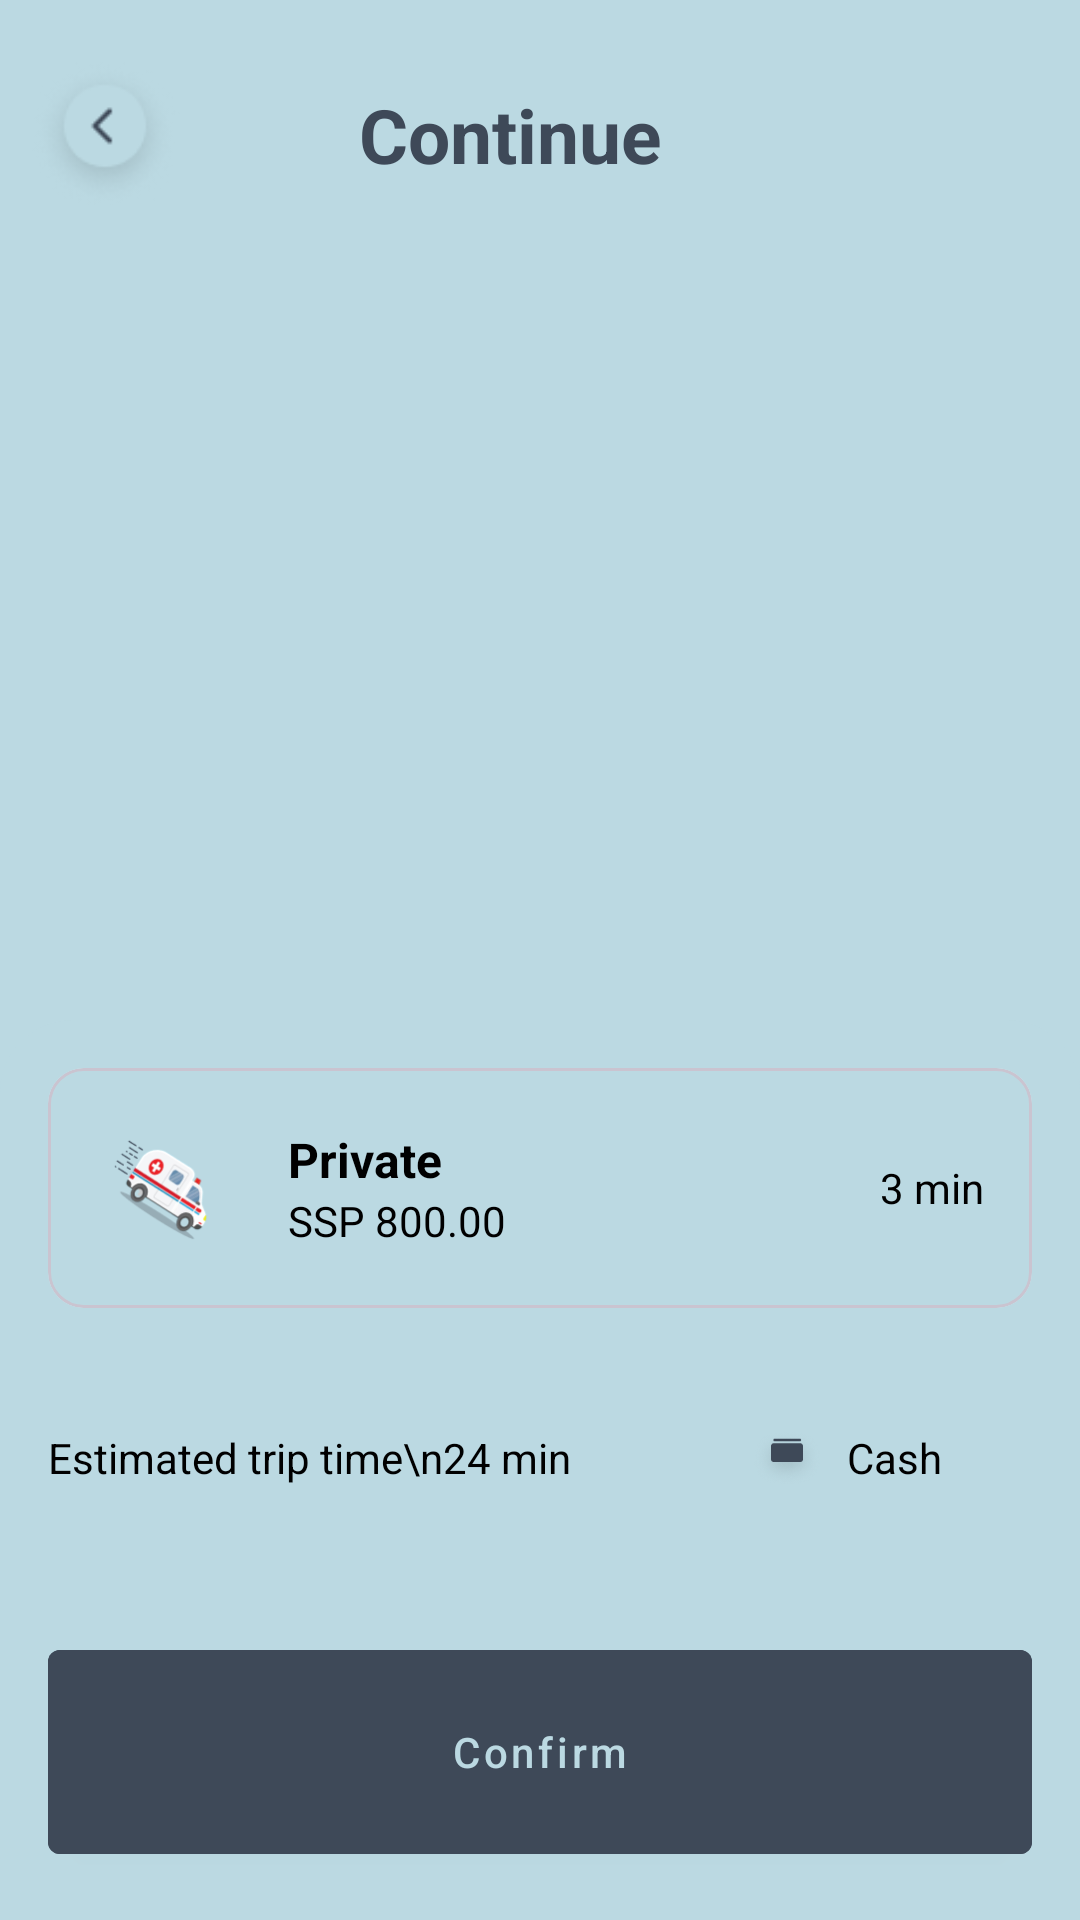

Icon bounding boxes for this 1080 x 1920 phone screenshot, format box=[x1, y1, x2, y2]:
Ambulance: box=[115, 1140, 207, 1239]
back: box=[91, 108, 113, 144]
